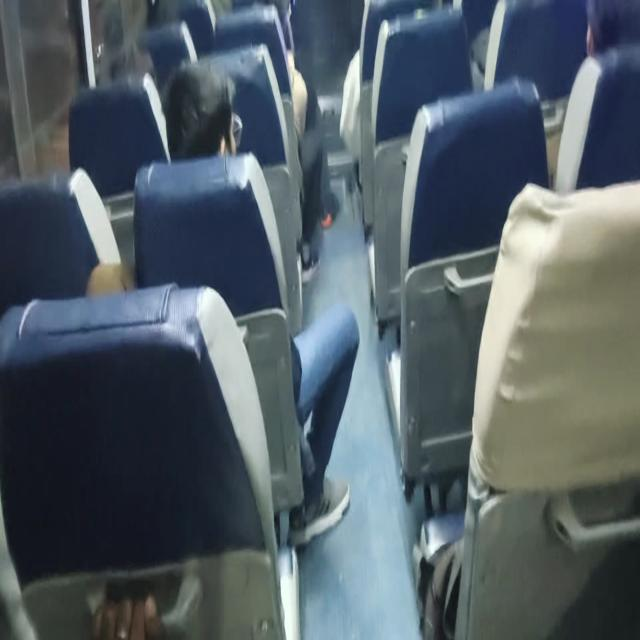person: (87, 59, 360, 548), (554, 0, 639, 191), (162, 59, 238, 160)
